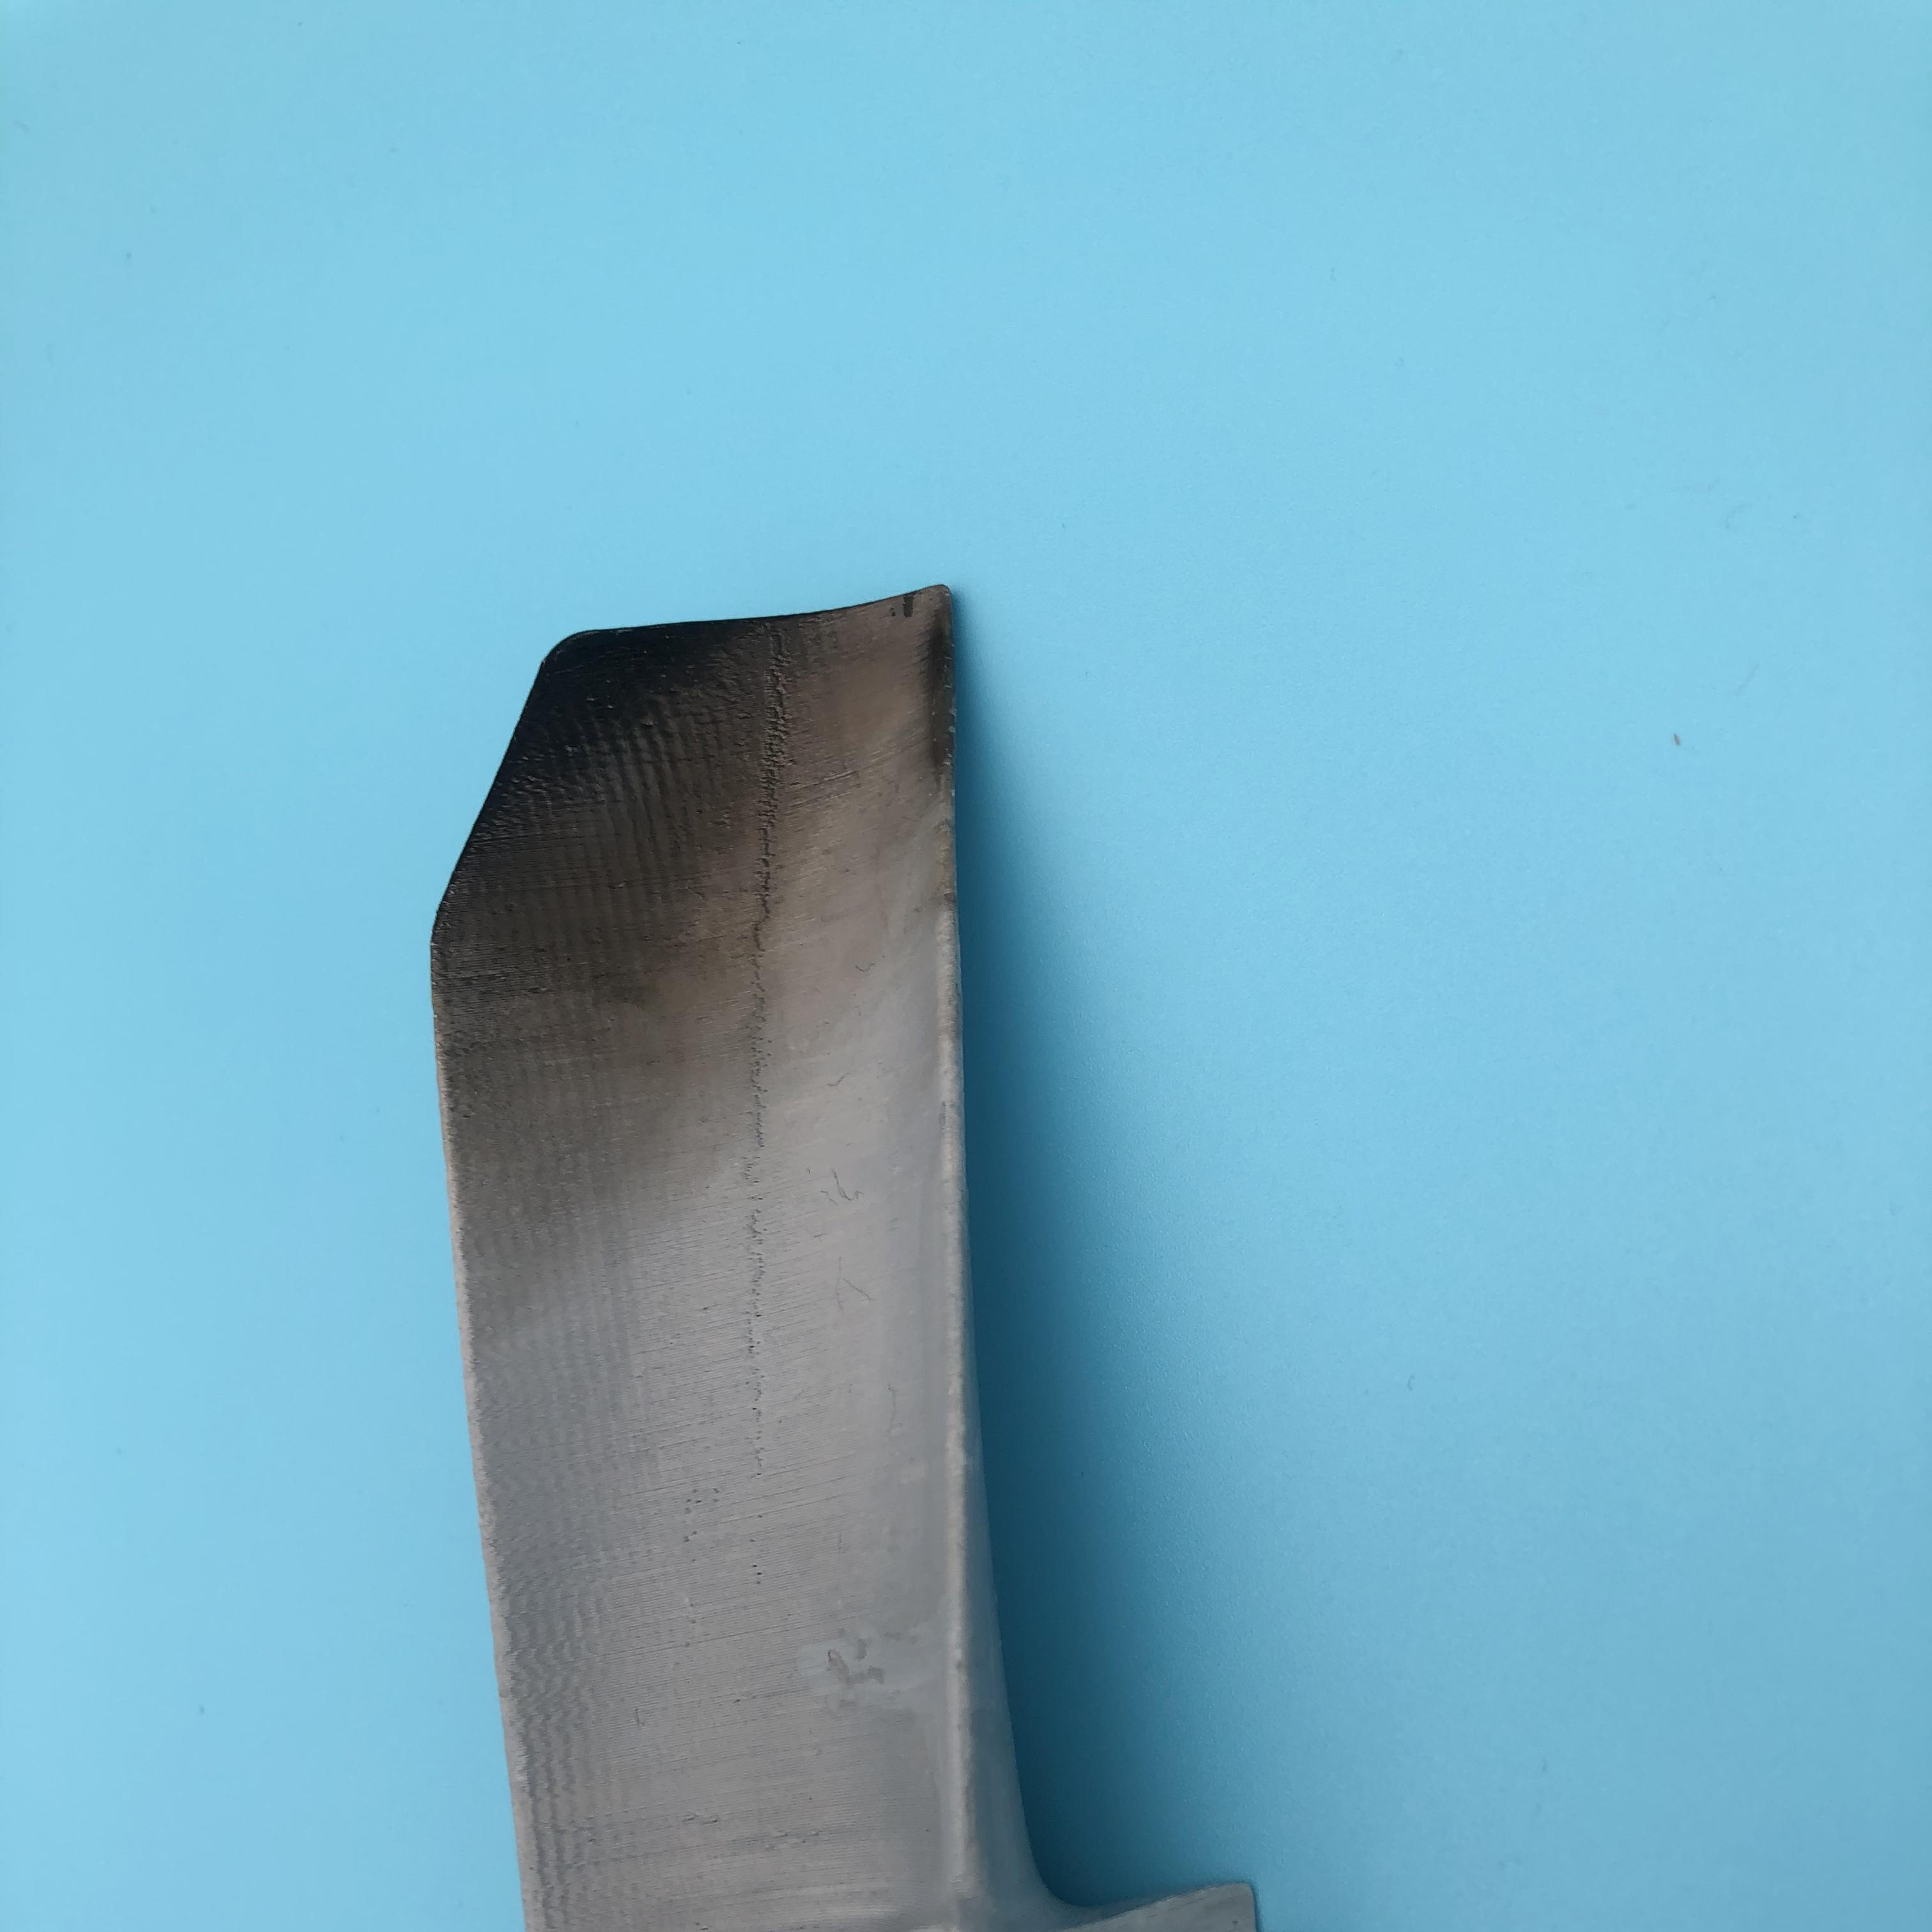ablation: (474, 660, 867, 1173)
